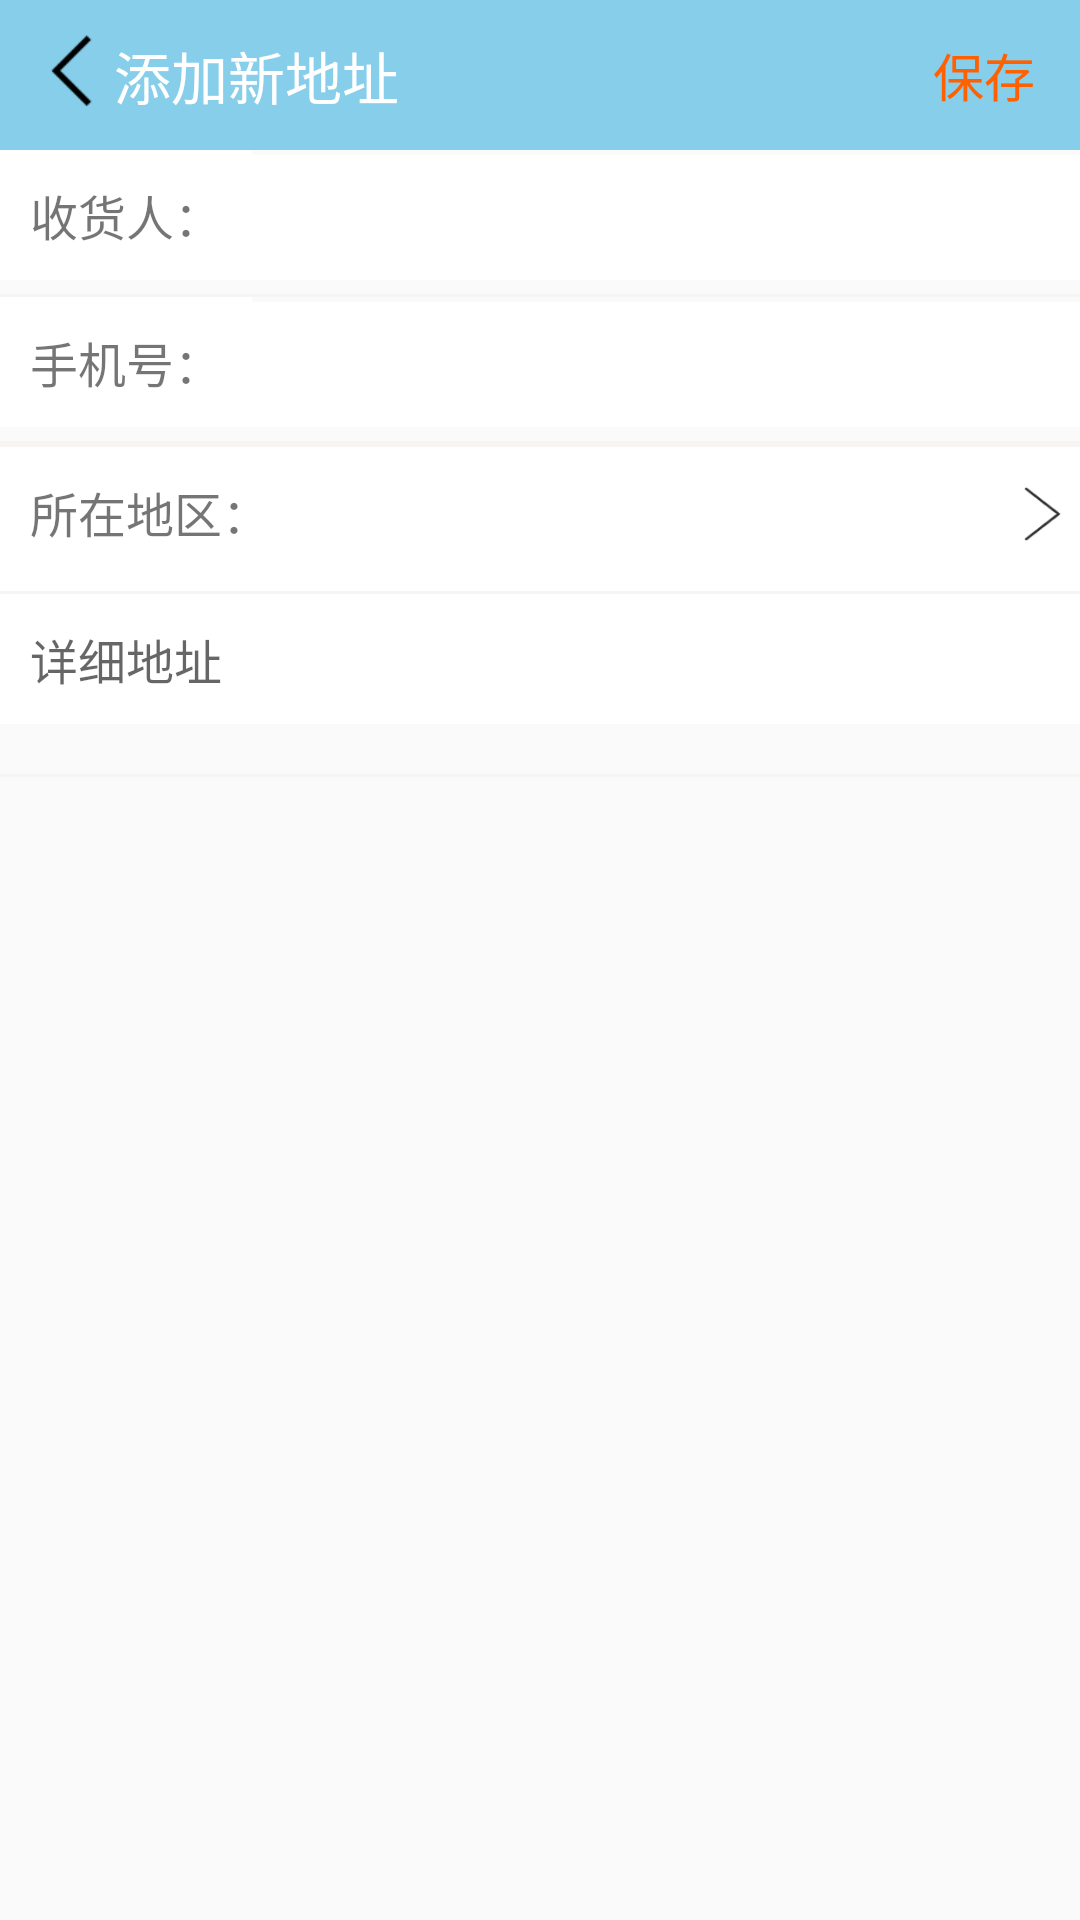

Named icons in this screenshot (1080x1920) and their bounding boxes, (left=x1, top=y1, right=x2, bottom=y2):
back: (left=52, top=35, right=92, bottom=106)
youjiantou: (left=1025, top=487, right=1060, bottom=541)
